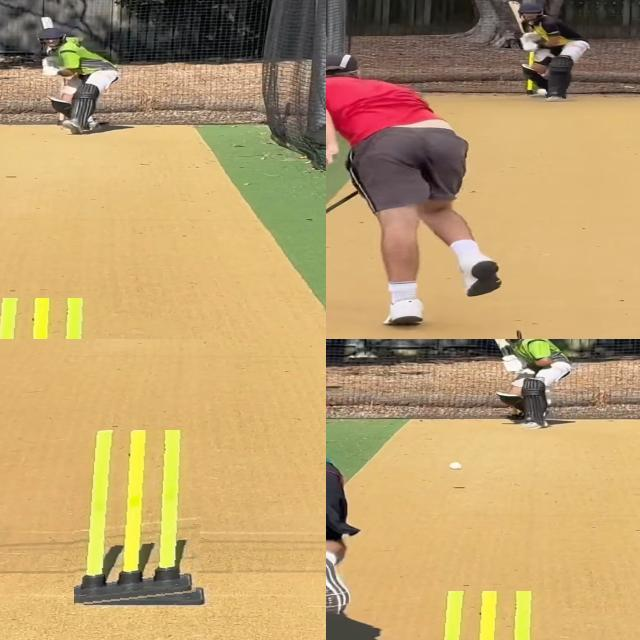Cricket ball: (534, 86, 551, 97), (447, 461, 465, 471)
Stumps: (74, 430, 209, 607), (431, 591, 559, 640), (0, 298, 107, 339)
